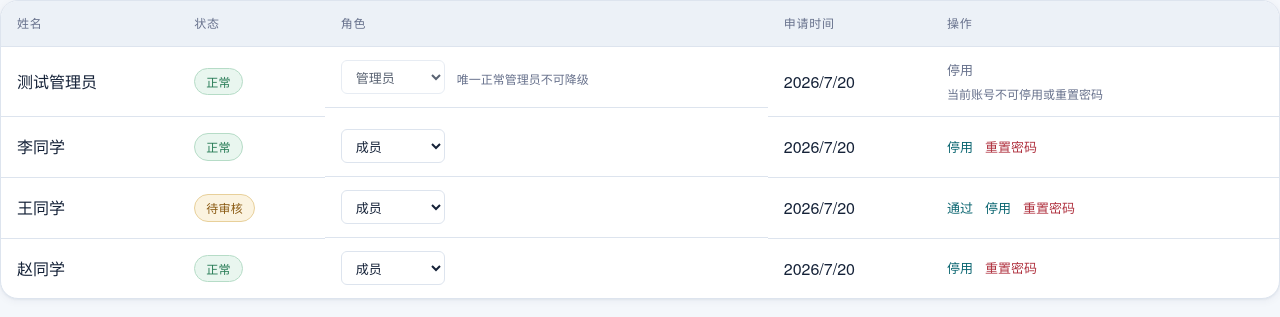
Test: AdminMembers › keeps an unsaved role draft across reloads while syncing untouched rows
Select "管理员" in the dropdown named "调整 李同学 的角色": (393, 146) [341, 130, 445, 164]
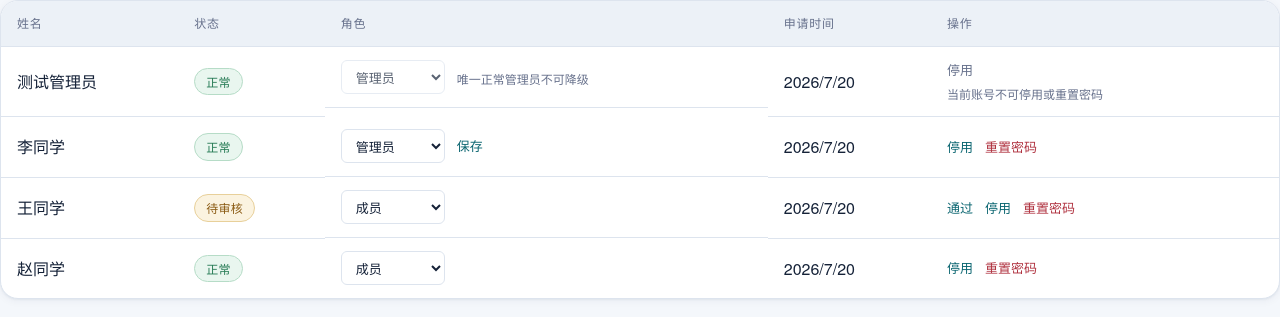
Click the button "通过": (960, 208) [947, 198, 973, 218]
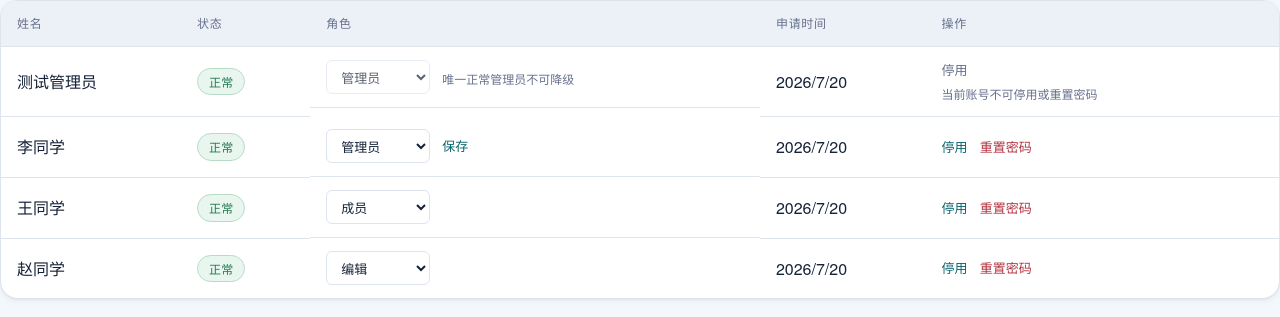
Result: the dropdown named "调整 李同学 的角色" shows "管理员" at [326, 130, 430, 164]
Result: the dropdown named "调整 赵同学 的角色" shows "编辑" at [326, 252, 430, 286]
